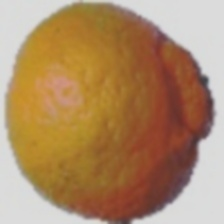tangerine: (38, 8, 186, 193)
